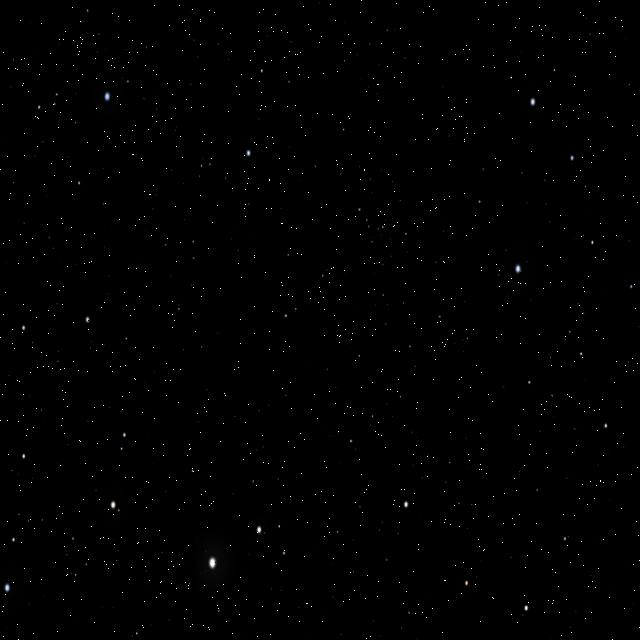Coma Berenices: (274, 198, 421, 458)
